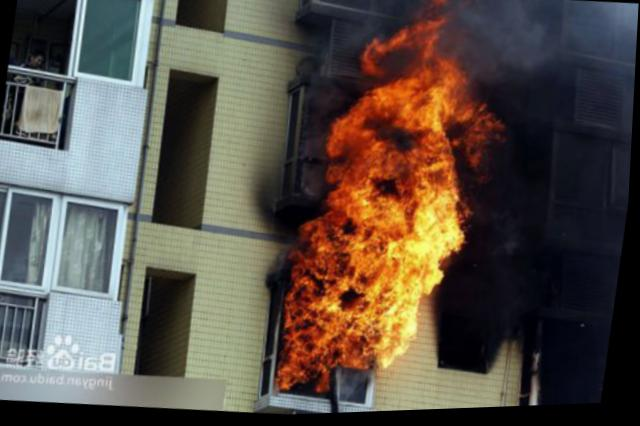fire: (297, 213, 452, 299), (287, 282, 426, 375), (398, 157, 471, 256), (406, 61, 468, 140), (456, 104, 507, 161), (348, 143, 407, 184), (329, 173, 377, 223), (328, 109, 374, 160), (364, 83, 412, 128), (282, 362, 341, 398), (393, 20, 444, 55), (369, 194, 408, 232), (358, 40, 391, 77), (413, 134, 458, 159)
